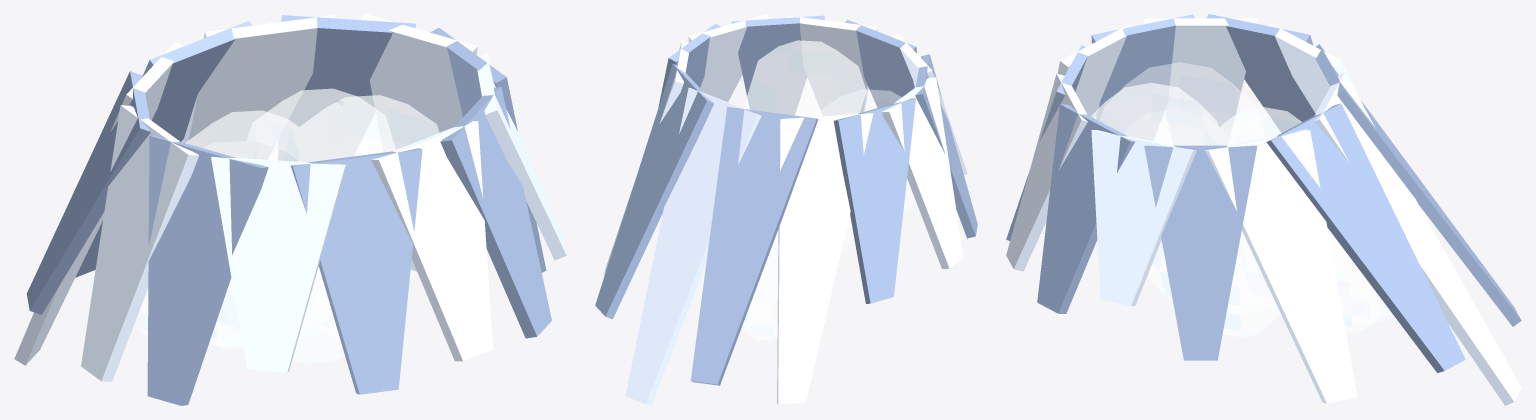
File: lantern_widow_train.glb
The picture shows the model from 3 angles, left to right: view 1: azimuth 30°, elevation 25°; view 2: azimuth 150°, elevation 25°; view 3: azimuth 270°, elevation 25°; orthographic projection. The views are drawn at different scales.
Parts seen in each view (by area): view 1: lantern_widow_train; view 2: lantern_widow_train; view 3: lantern_widow_train.
Part boxes in pixels (x1=…): lantern_widow_train: x1=14, y1=14, x2=566, y2=405; lantern_widow_train: x1=595, y1=14, x2=977, y2=405; lantern_widow_train: x1=1006, y1=14, x2=1521, y2=405.
Size of the model in its own units: 0.984 by 0.7626 by 1.19.
